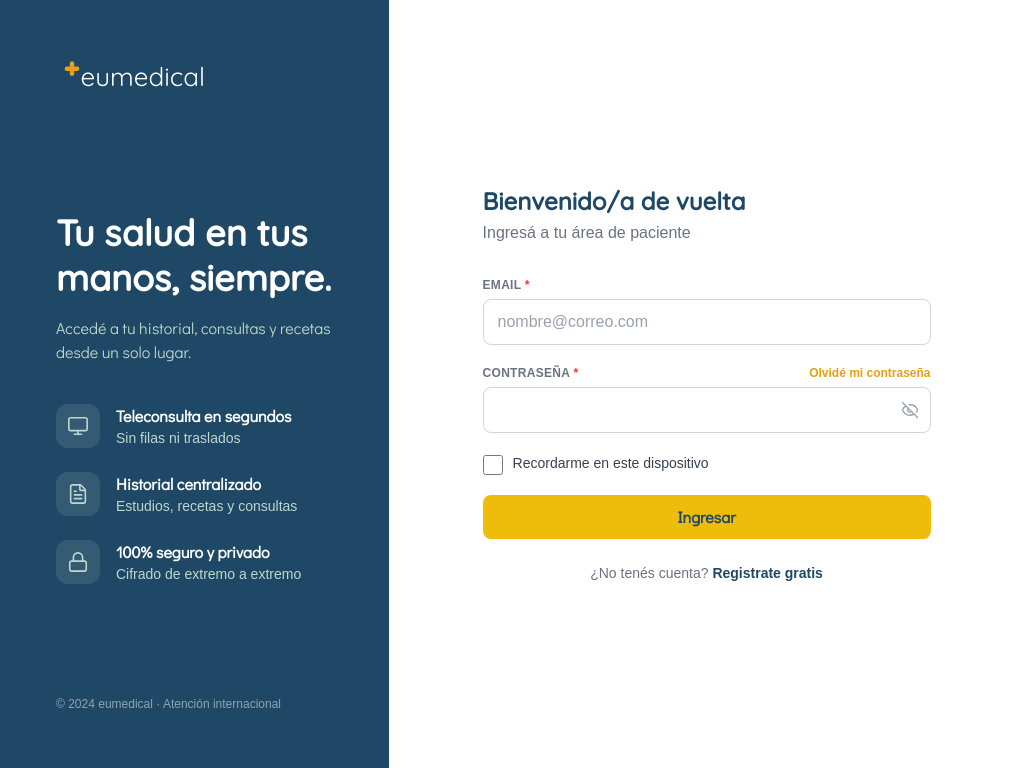
Scenario: LoginPage › shows an email error when it is invalid
Type "no-es-un-email" into the field labelled "EMAIL *". click: (706, 322)
box: top-left (482, 299), bottom-right (930, 345)
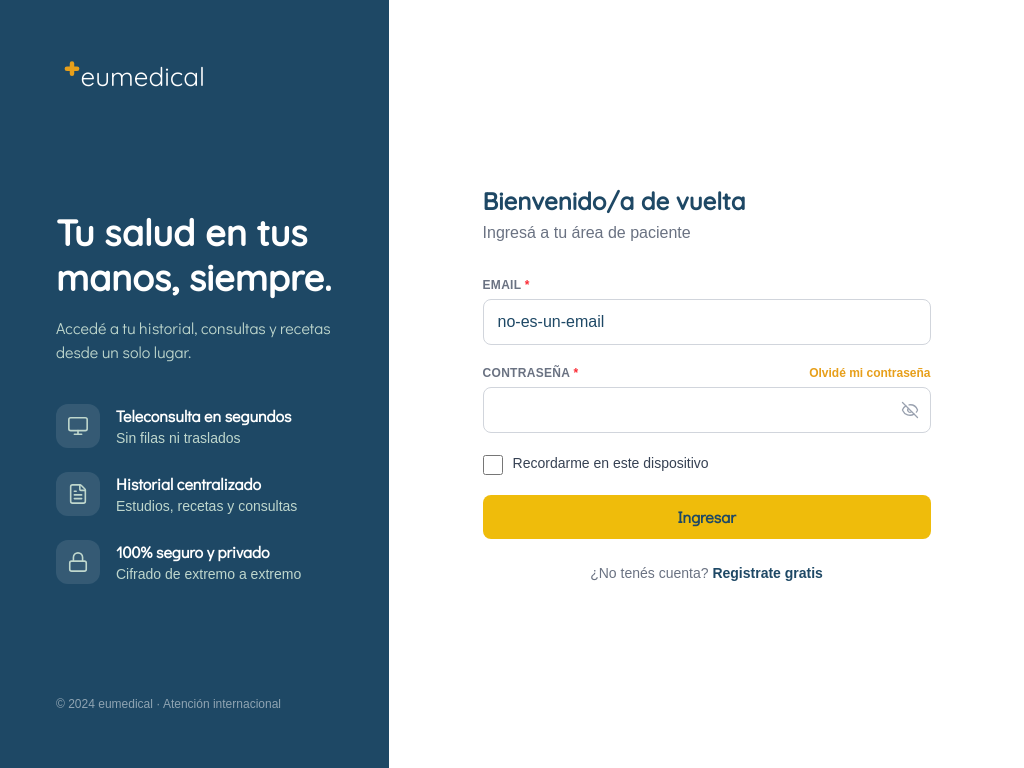
Type "Password1" into the password field labelled "CONTRASEÑA *". click: (706, 410)
box: top-left (482, 387), bottom-right (930, 433)
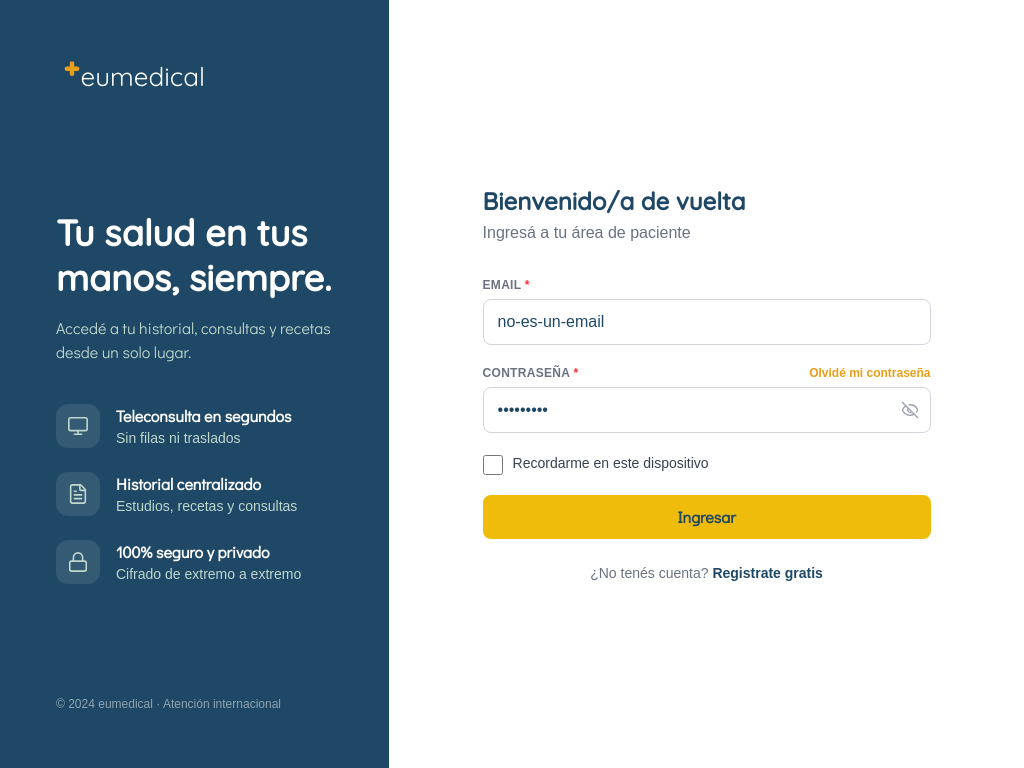
Click the button "Ingresar". click: (706, 517)
box: top-left (482, 495), bottom-right (930, 539)
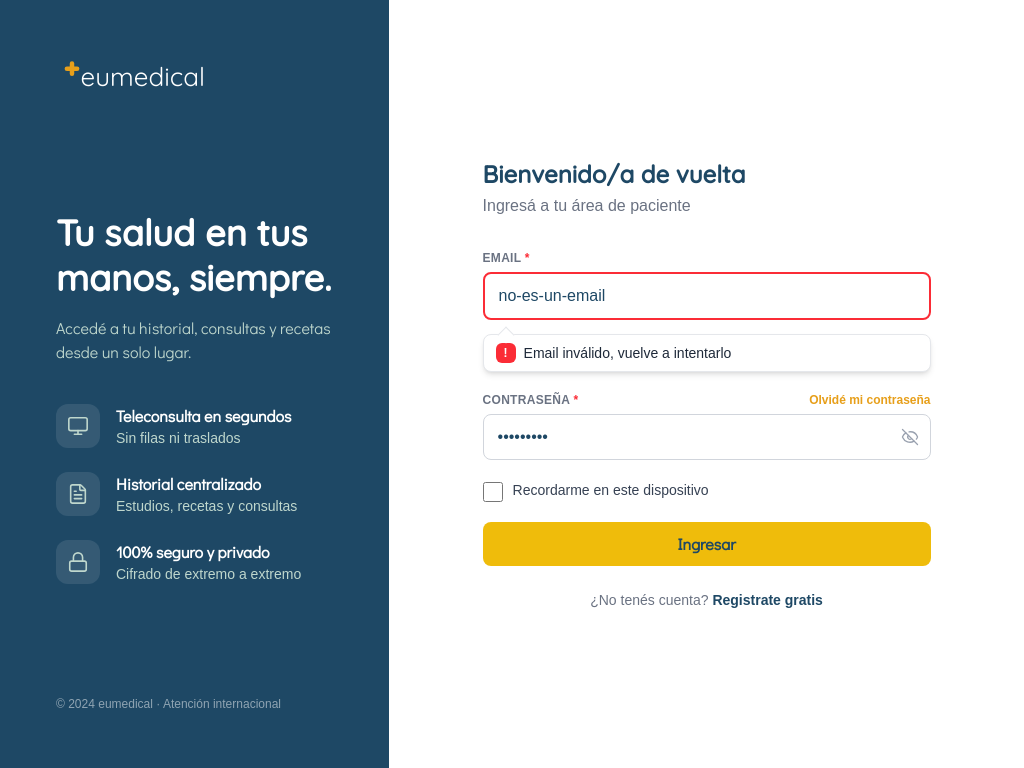
Check: the text "Email inválido, vuelve a intentarlo" is shown, box top-left (524, 343), bottom-right (731, 363)
